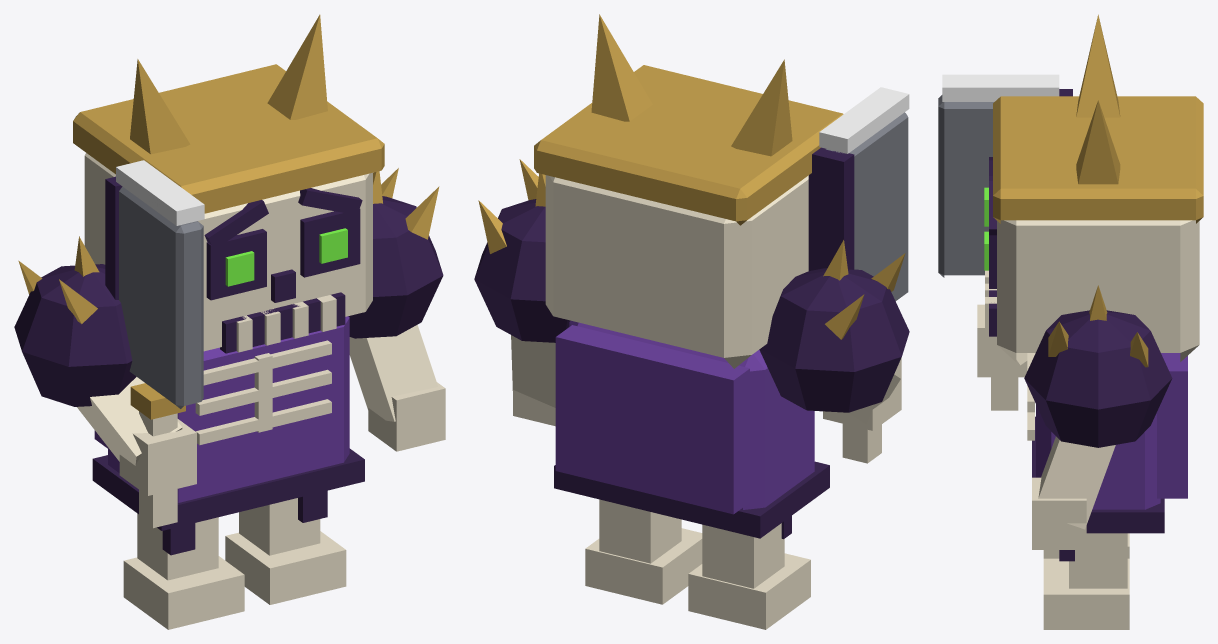
File: warlord_r4.glb
The picture shows the model from 3 angles, left to right: view 1: azimuth 30°, elevation 25°; view 2: azimuth 150°, elevation 25°; view 3: azimuth 270°, elevation 25°; orthographic projection. The views are drawn at different scales.
Parts seen in each view (by area): view 1: warlord_r4_mesh; view 2: warlord_r4_mesh; view 3: warlord_r4_mesh.
Part boxes in pixels (bbox=[...]): warlord_r4_mesh: bbox=[14, 14, 445, 629]; warlord_r4_mesh: bbox=[474, 14, 909, 629]; warlord_r4_mesh: bbox=[938, 14, 1203, 629].
Size of the model in its own units: 2.83 by 3.6 by 1.63.
Materials: 1 (1 with a texture image).
